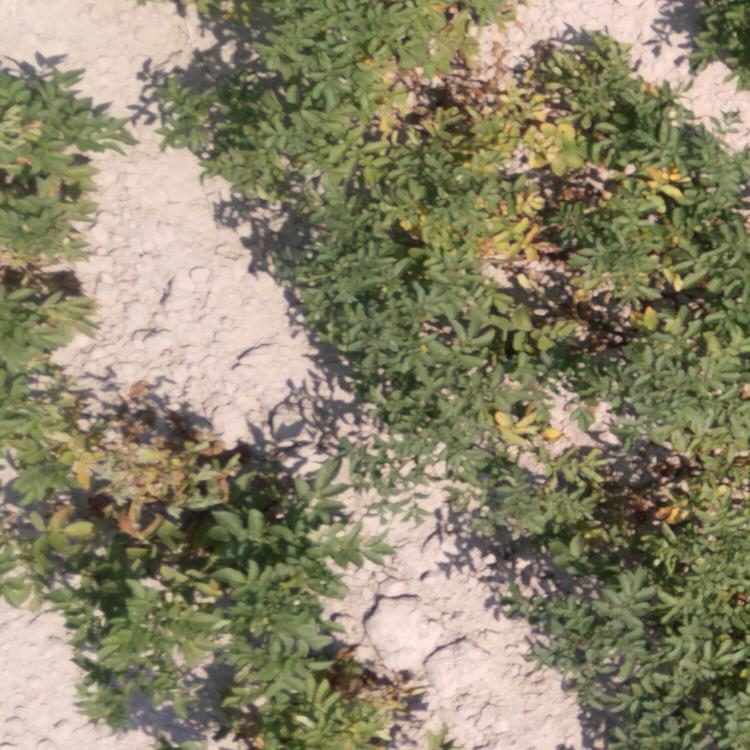healthy: (526, 536, 750, 744), (186, 99, 361, 264), (320, 287, 452, 433), (182, 1, 319, 80), (677, 1, 750, 72), (577, 38, 645, 107)
stressed: (1, 375, 201, 700), (391, 110, 737, 281), (1, 58, 107, 383), (474, 285, 611, 513), (624, 292, 745, 538), (208, 438, 355, 614), (222, 622, 408, 750), (345, 1, 554, 98)
